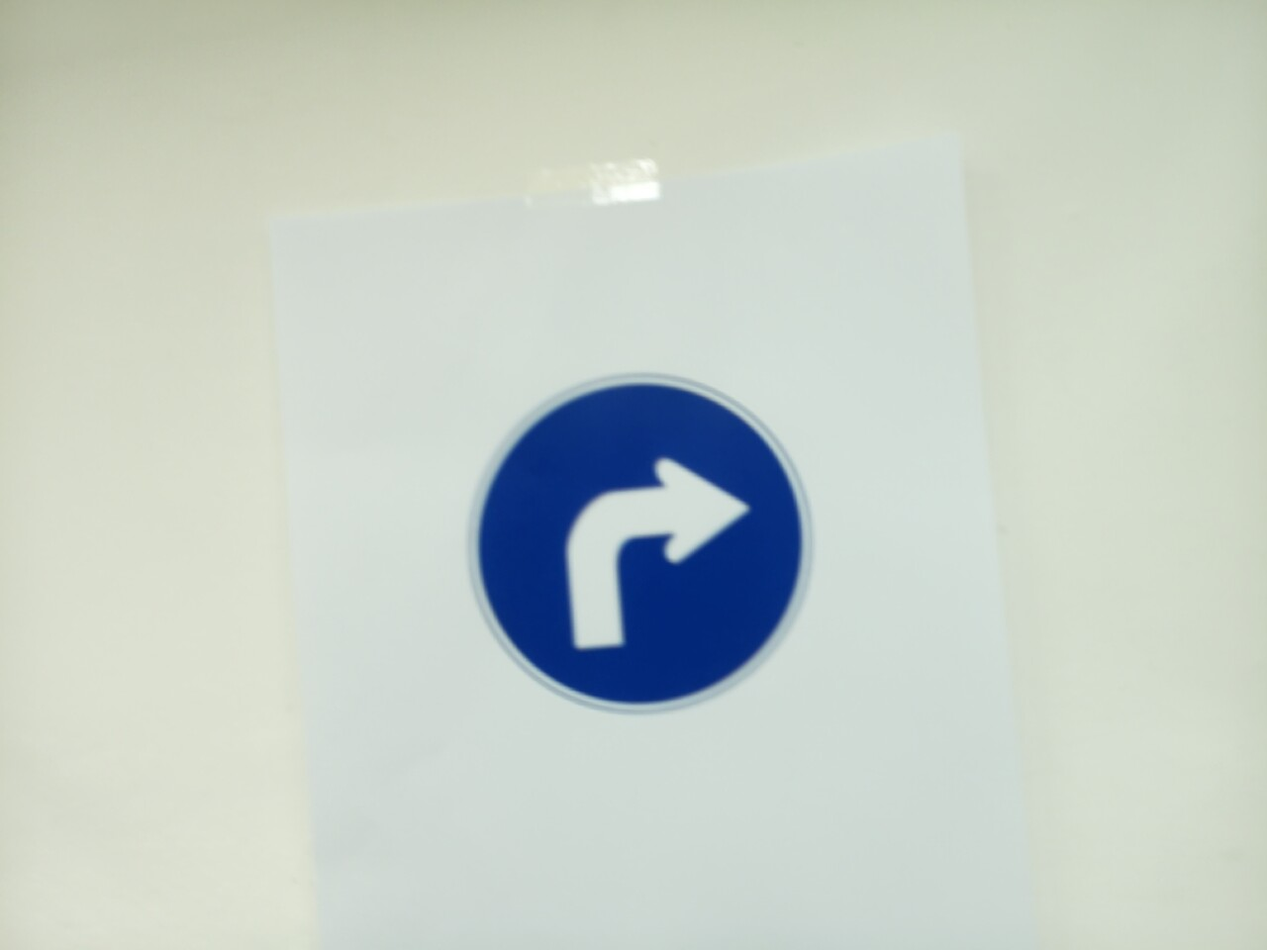right_turn: (468, 374, 813, 714)
